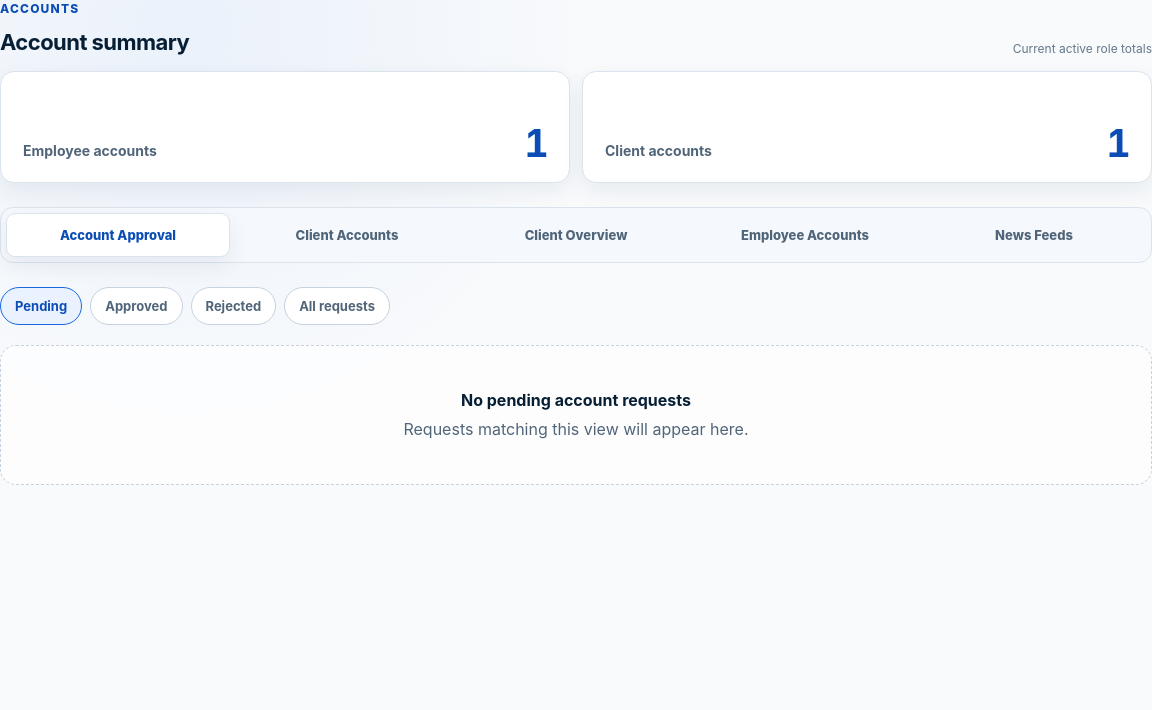
account request and employee summary UI › reloads backend-aggregated client usage for the selected period
Click the tab "Client Accounts": [347, 235] box [235,213,459,257]
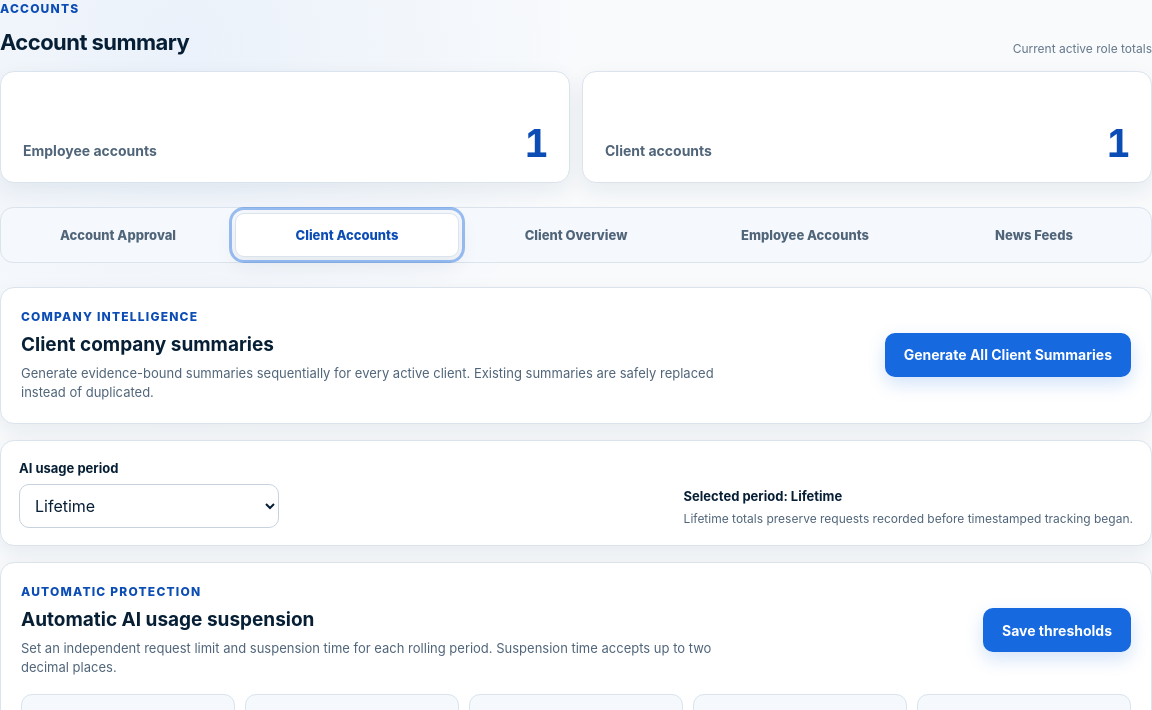
Select "Last 15 minutes" in the dropdown labelled "AI usage period": [149, 506] box [19,484,279,528]
(page scrolled)
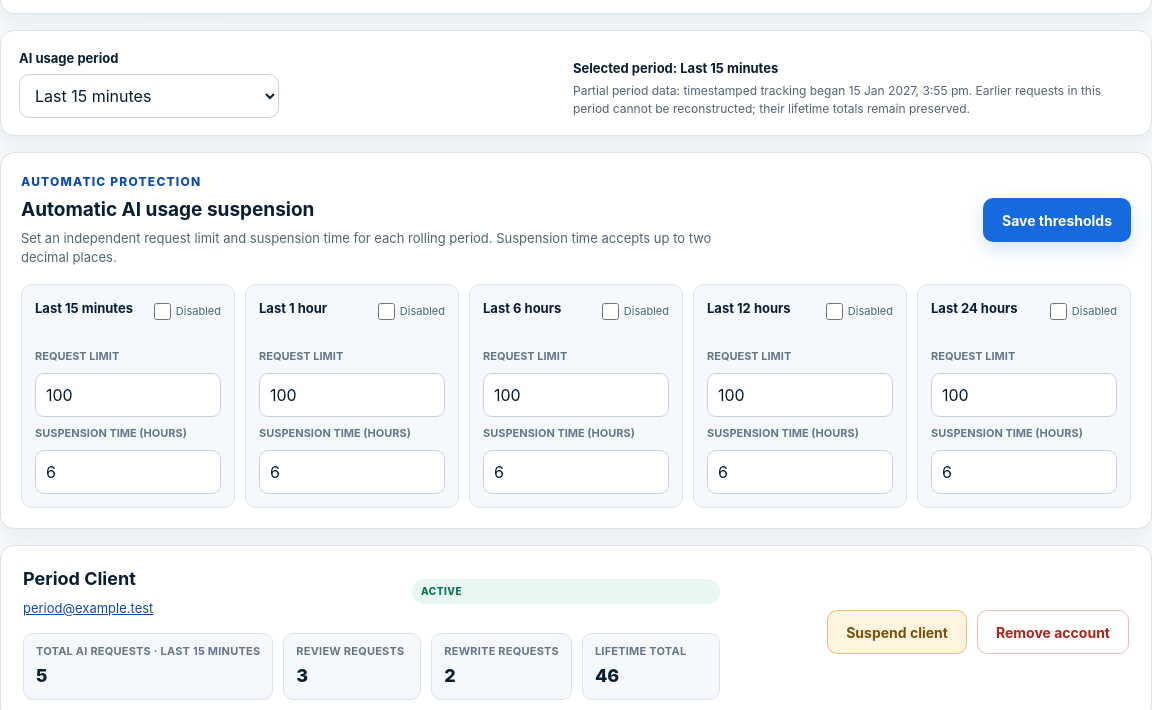
Now the text "Selected period: Last 15 minutes" is shown, box [573,60,778,76]
Now the text "Partial period data:" shows "Earlier requests in this period cannot be reconstructed", box [573,83,1101,116]
Now the text "5" is shown, box [36,665,47,686]
